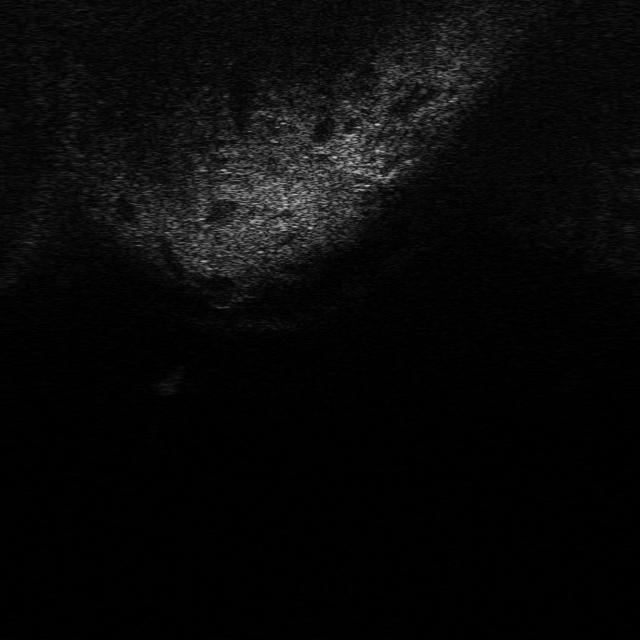cylinder: (150, 360, 190, 398)
